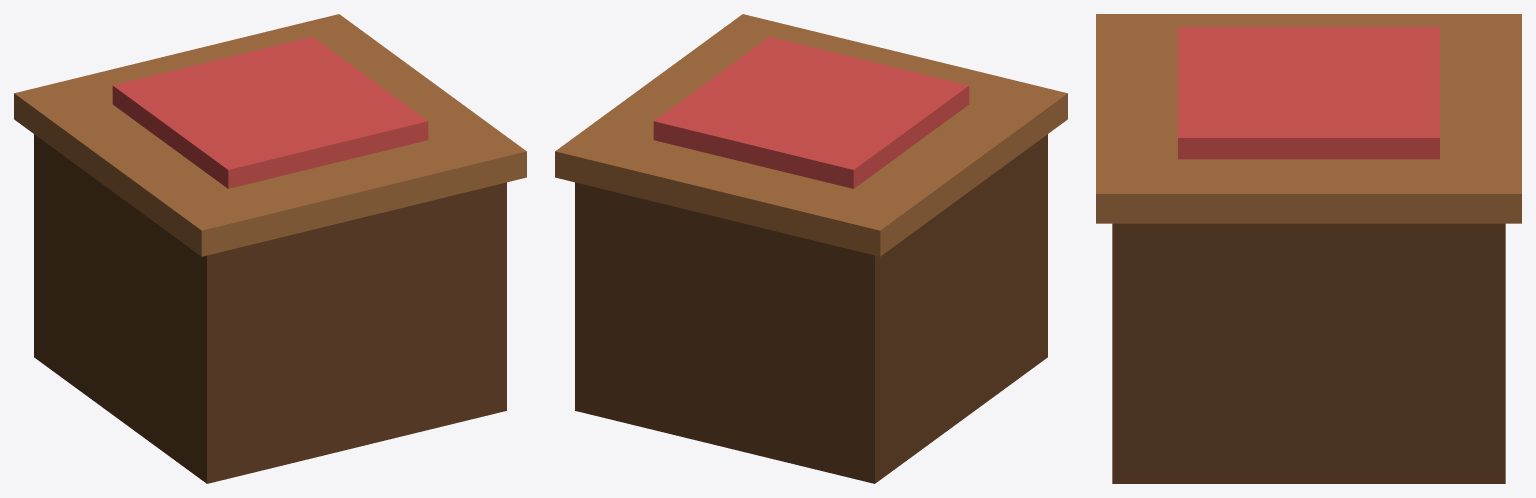
Rendered from mdl_pedestal.fbx.
3 views of the same model, side by side, from view 1: azimuth 30°, elevation 25°; view 2: azimuth 150°, elevation 25°; view 3: azimuth 270°, elevation 25° (orthographic). The views are drawn at different scales.
Parts seen in each view (by area): view 1: mdl_pedestal; view 2: mdl_pedestal; view 3: mdl_pedestal.
Part boxes in pixels (x1,y1,x2,y2): mdl_pedestal: (14,14,526,483); mdl_pedestal: (555,14,1067,483); mdl_pedestal: (1096,14,1521,483).
Size of the model in its own units: 260 by 215 by 260.
